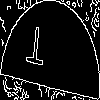T: (25, 24, 46, 76)
